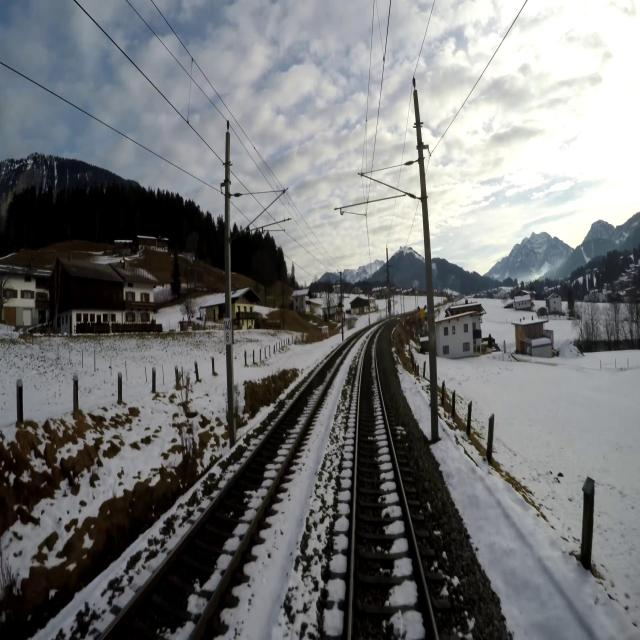rail-track: (103, 341, 352, 639), (352, 329, 434, 639)
